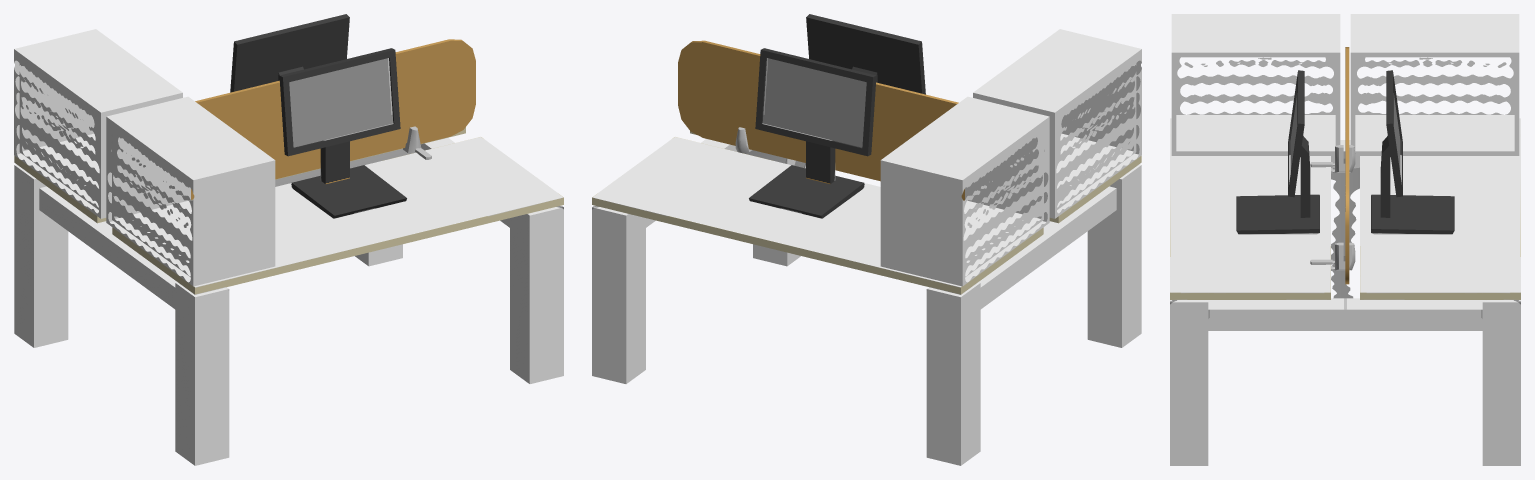
Rendered from Bureau.fbx.
The picture shows the model from 3 angles, left to right: view 1: azimuth 30°, elevation 25°; view 2: azimuth 150°, elevation 25°; view 3: azimuth 270°, elevation 25°; orthographic projection. The views are drawn at different scales.
Visible parts, largest first — view 1: Table, Casier, Ecran, Separateur, Cable_Holder; view 2: Table, Casier, Ecran, Separateur; view 3: Table, Casier, Ecran, Cable_Holder, Separateur, Separateur_Holder.001, Separateur_Holder.
Boxes of the visible parts, <box> form: Table: <box>14,127,563,465</box>; Casier: <box>14,29,275,286</box>; Ecran: <box>230,14,406,218</box>; Separateur: <box>191,39,475,199</box>; Cable_Holder: <box>191,149,409,200</box>; Table: <box>592,131,1141,465</box>; Casier: <box>880,29,1141,286</box>; Ecran: <box>749,14,925,218</box>; Separateur: <box>678,40,964,200</box>; Table: <box>1170,118,1520,465</box>; Casier: <box>1171,14,1519,155</box>; Ecran: <box>1236,70,1454,234</box>; Cable_Holder: <box>1331,167,1359,298</box>; Separateur: <box>1345,47,1349,284</box>; Separateur_Holder.001: <box>1310,242,1355,270</box>; Separateur_Holder: <box>1310,145,1355,173</box>.
Bounding box in the file's own units: 6.67 × 5.19 × 5.61.
Materials: 1 (1 with a texture image).
